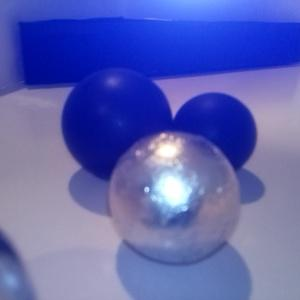alive_ball: (108, 131, 241, 265), (1, 229, 41, 300)
dead_ball: (61, 68, 173, 181), (172, 93, 256, 178)
